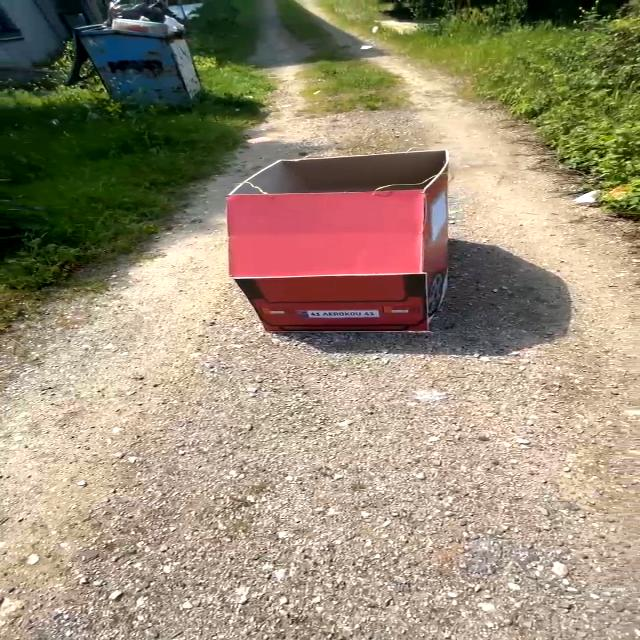red_car: (195, 137, 487, 345)
